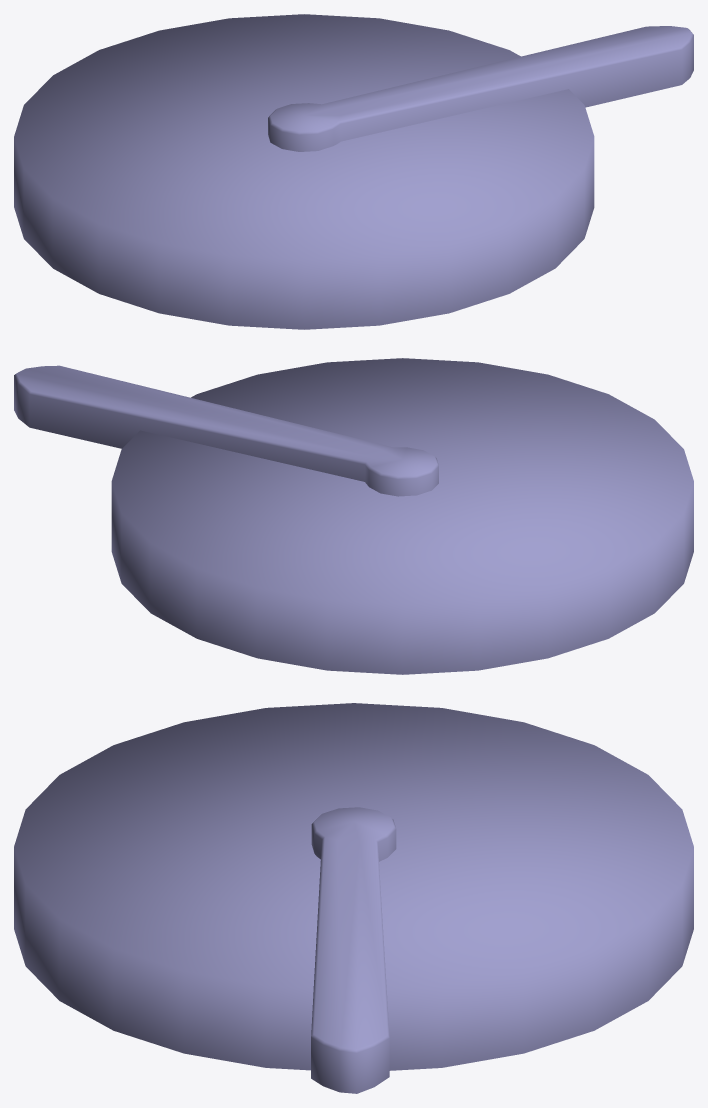
The model's file is pipegame3.fbx.
The picture shows the model from 3 angles, top to bottom: view 1: azimuth 30°, elevation 25°; view 2: azimuth 150°, elevation 25°; view 3: azimuth 270°, elevation 25°; orthographic projection. The views are drawn at different scales.
Visible parts, largest first — view 1: 3_low; view 2: 3_low; view 3: 3_low.
Part boxes in pixels (x1,y1,x2,y2): 3_low: [14, 14, 693, 329]; 3_low: [14, 358, 693, 674]; 3_low: [14, 703, 693, 1093].
Size of the model in its own units: 112 by 88 by 15.38.
